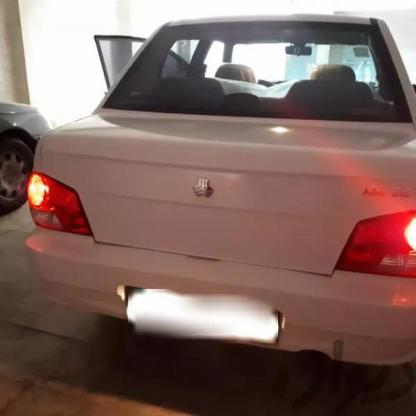Car: (34, 8, 416, 366), (0, 97, 52, 208)
